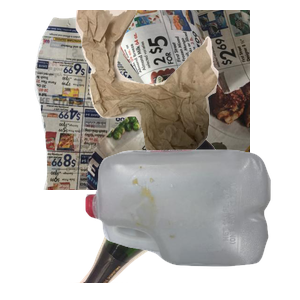glass: (66, 120, 279, 300)
paper: (32, 10, 272, 190)
plastic: (83, 147, 300, 300)
trash: (73, 10, 300, 163)
